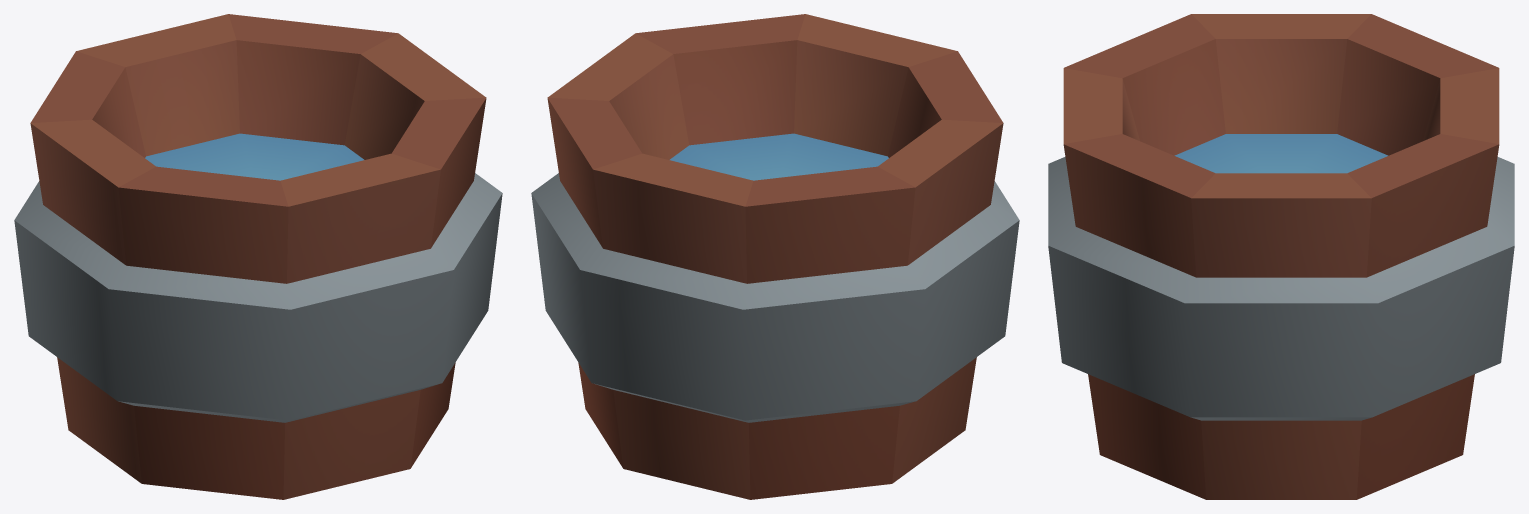
Rendered from H_bucket_water.glb.
3 views of the same model, side by side, from view 1: azimuth 30°, elevation 25°; view 2: azimuth 150°, elevation 25°; view 3: azimuth 270°, elevation 25° (orthographic). The views are drawn at different scales.
Visible parts, largest first — view 1: bucket_water; view 2: bucket_water; view 3: bucket_water.
Part boxes in pixels (x1=…): bucket_water: x1=14, y1=14, x2=502, y2=499; bucket_water: x1=531, y1=14, x2=1019, y2=499; bucket_water: x1=1048, y1=14, x2=1514, y2=499.
Bounding box in the file's own units: 0.14 × 0.105 × 0.14.
